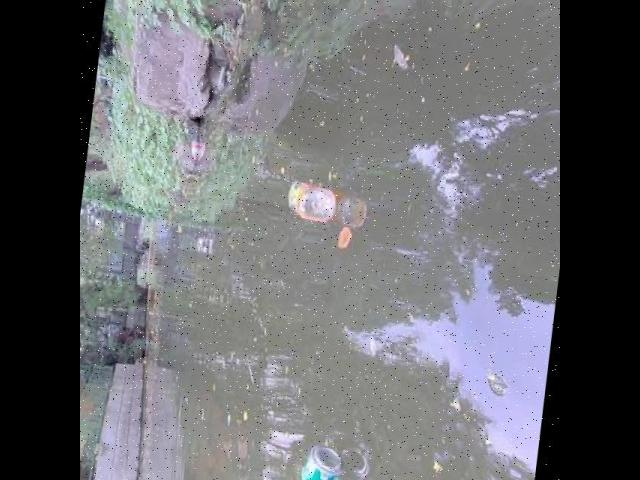Bottle: (283, 172, 339, 232), (295, 437, 345, 480)
